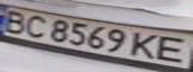5: (66, 20, 90, 47)
6: (84, 24, 109, 52)
8: (45, 17, 72, 44)
9: (103, 26, 130, 55)
B: (0, 8, 33, 34)
C: (21, 12, 51, 38)
E: (151, 34, 193, 64)
K: (127, 29, 163, 60)
